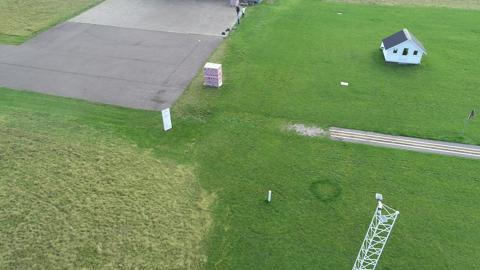RockwoolPallet: (202, 61, 224, 88)
